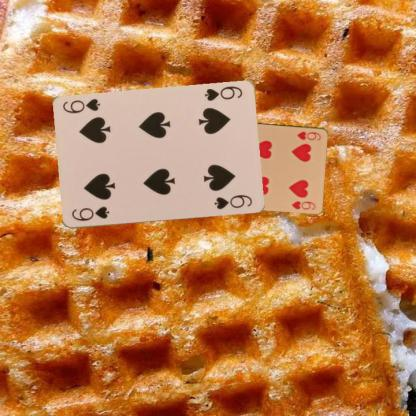6h: (295, 129, 322, 141)
6s: (69, 204, 110, 223), (202, 84, 243, 102)
